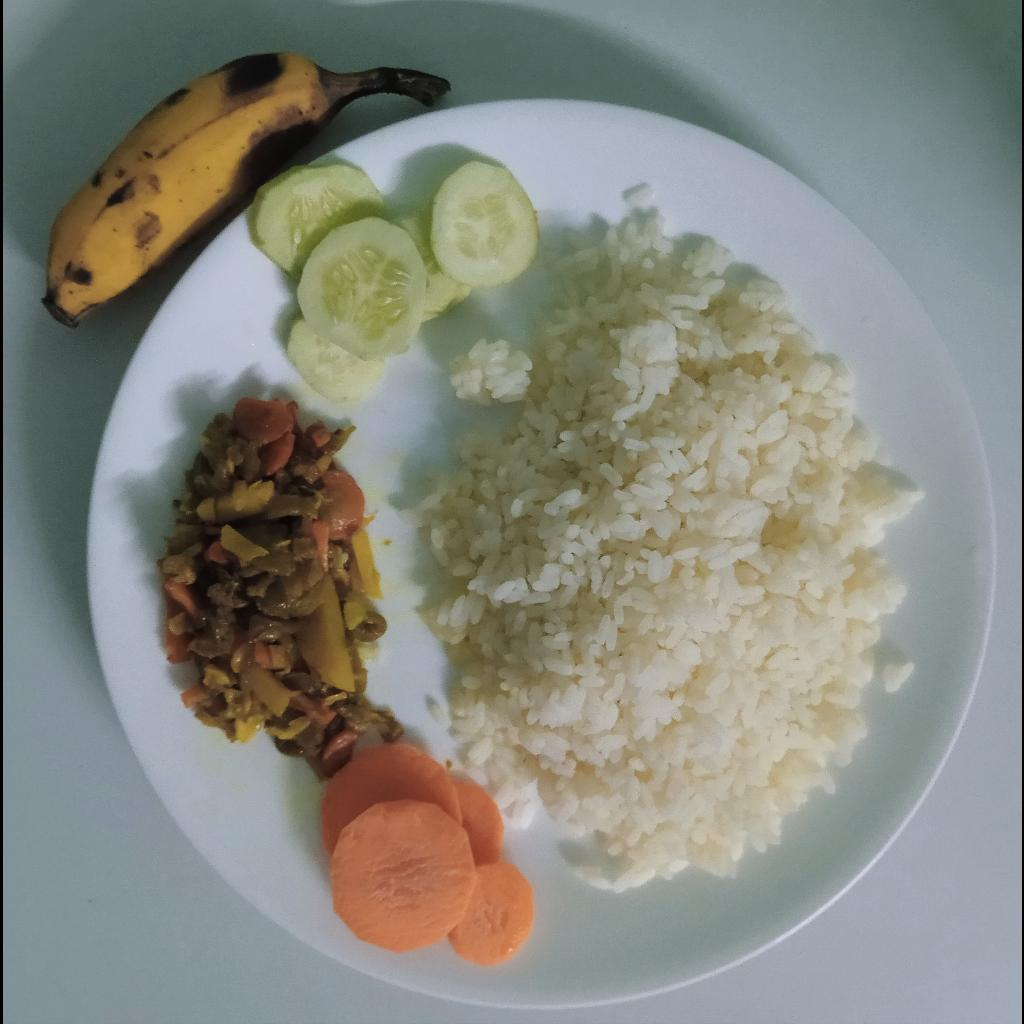banana: (43, 52, 449, 329)
carrot: (318, 741, 535, 967)
cucumber: (247, 156, 539, 405)
rice: (405, 187, 922, 894)
vegetable: (155, 399, 406, 770)
